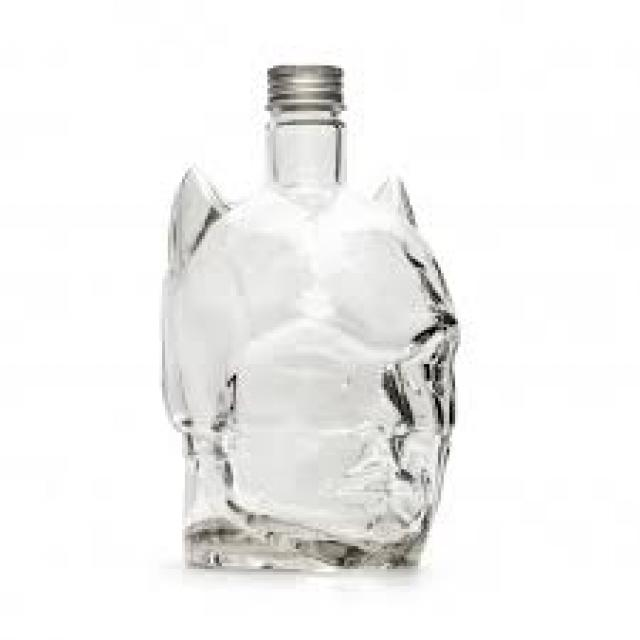Glass-Non-Biodegradable but Recyclable-: (155, 59, 461, 577)
